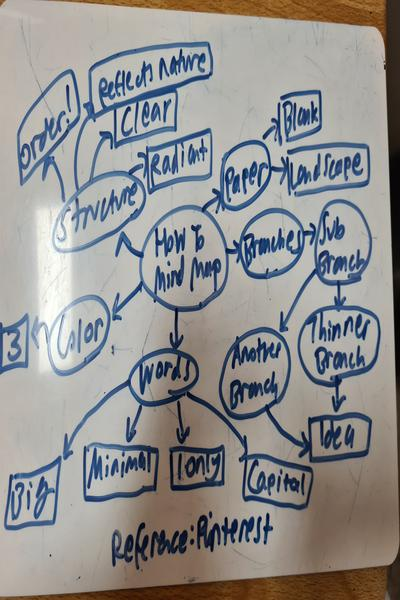arrow: (63, 379, 129, 461), (185, 391, 250, 462), (278, 269, 315, 337), (266, 408, 310, 461), (73, 102, 94, 192), (110, 284, 145, 323), (88, 131, 113, 180), (43, 153, 67, 202), (172, 399, 193, 444), (115, 231, 142, 262), (123, 403, 142, 444), (329, 379, 349, 414), (170, 309, 186, 350), (202, 185, 223, 215), (31, 317, 49, 349), (126, 153, 148, 177), (259, 119, 279, 143), (271, 157, 286, 185), (332, 283, 348, 309), (227, 239, 240, 264), (306, 223, 317, 244)
idea: (89, 42, 217, 112), (16, 66, 81, 179), (287, 142, 373, 196), (84, 442, 159, 502), (4, 453, 59, 531), (147, 130, 215, 193), (243, 454, 312, 512), (113, 92, 180, 147), (307, 412, 375, 466), (169, 445, 226, 490), (278, 90, 325, 144), (1, 314, 29, 375)
topic: (139, 204, 230, 311), (53, 169, 145, 252), (218, 328, 292, 421), (297, 307, 382, 387), (48, 296, 112, 377), (237, 207, 306, 280), (316, 200, 372, 287), (129, 347, 198, 406), (220, 141, 273, 213)
